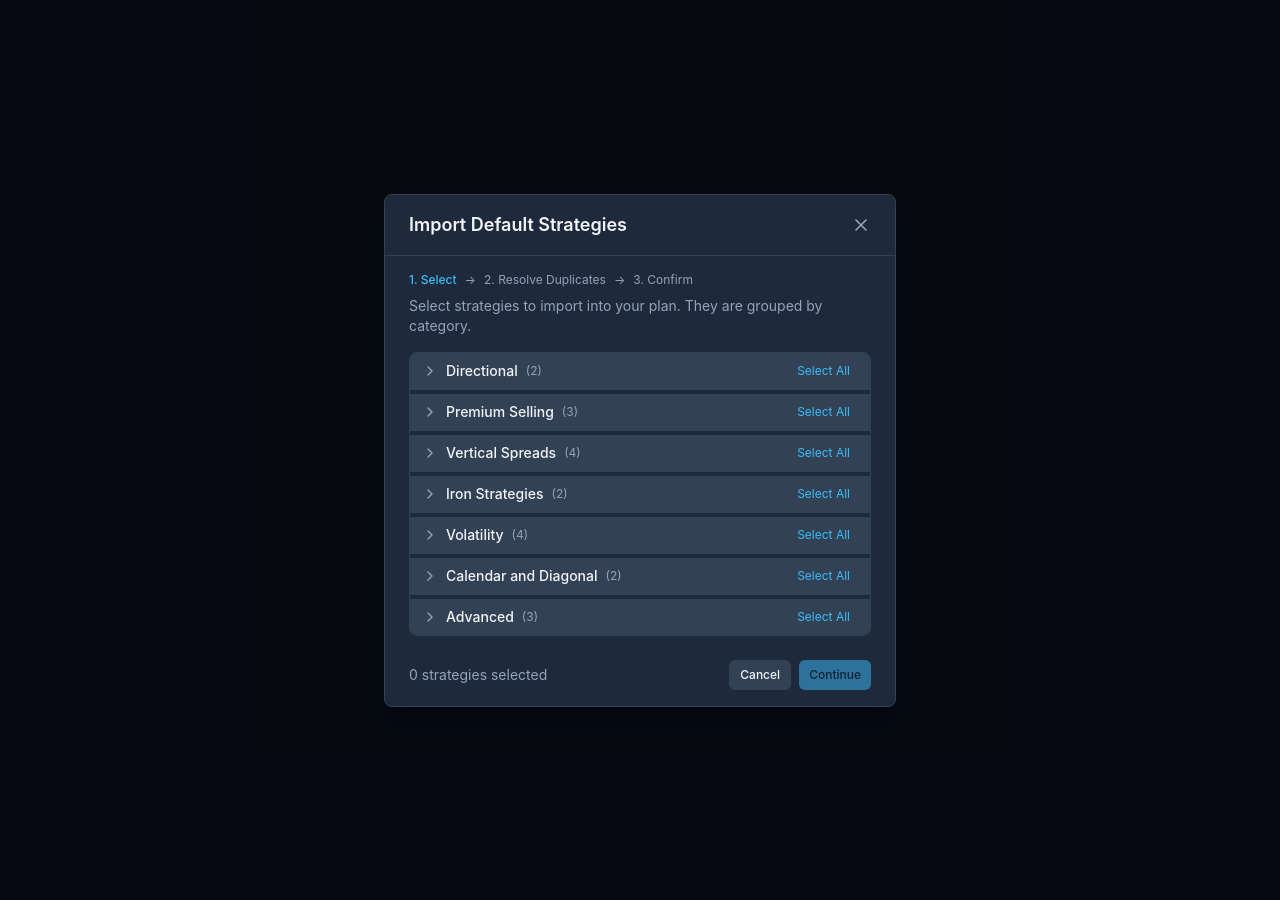
StrategyImporter › multi-select and Select All per category › allows selecting individual strategies
Click the button with aria-label "Directional category" at [482, 370], box [422,360,781,380]
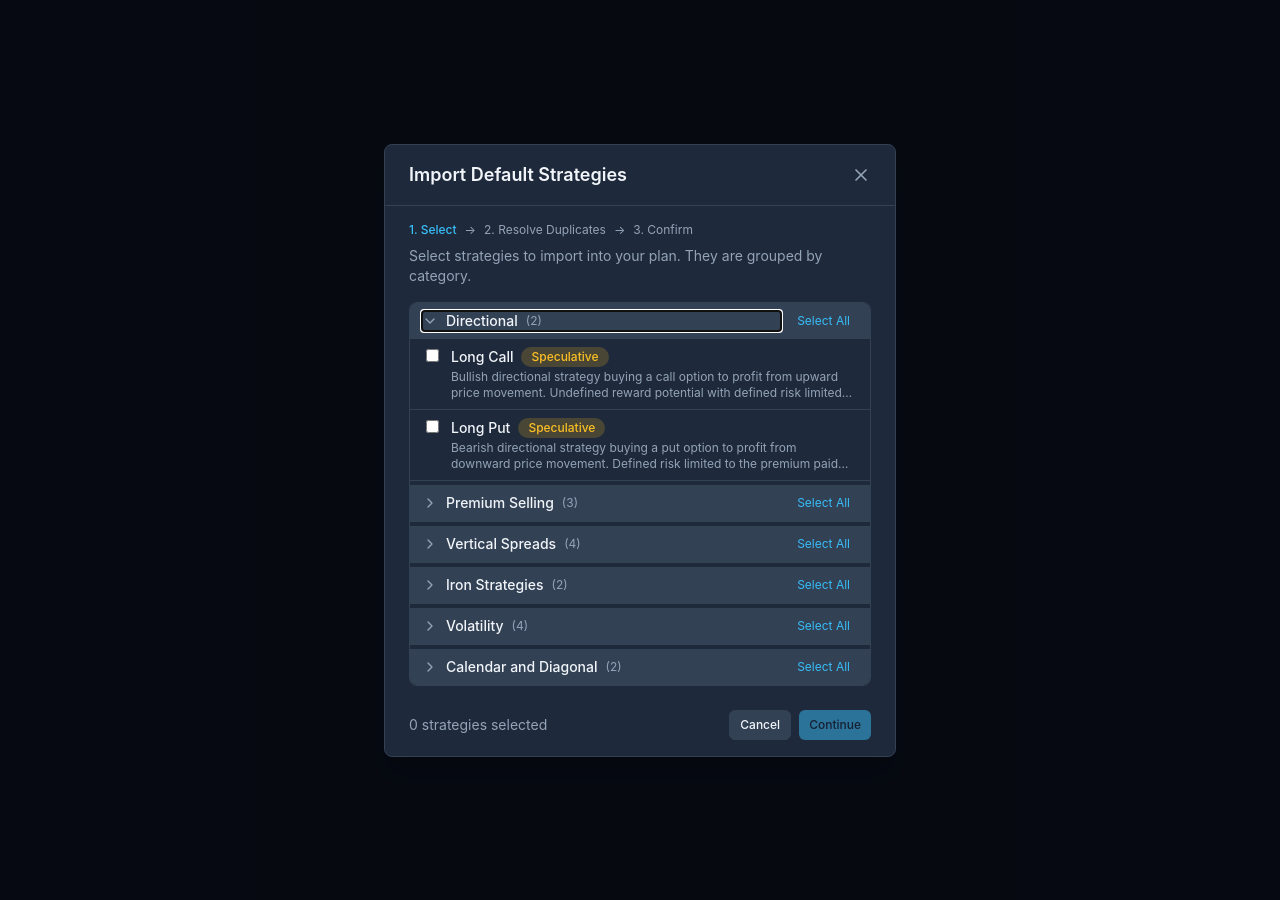
Click the checkbox named "Select Long Call" at [432, 355], box [426,348,439,362]
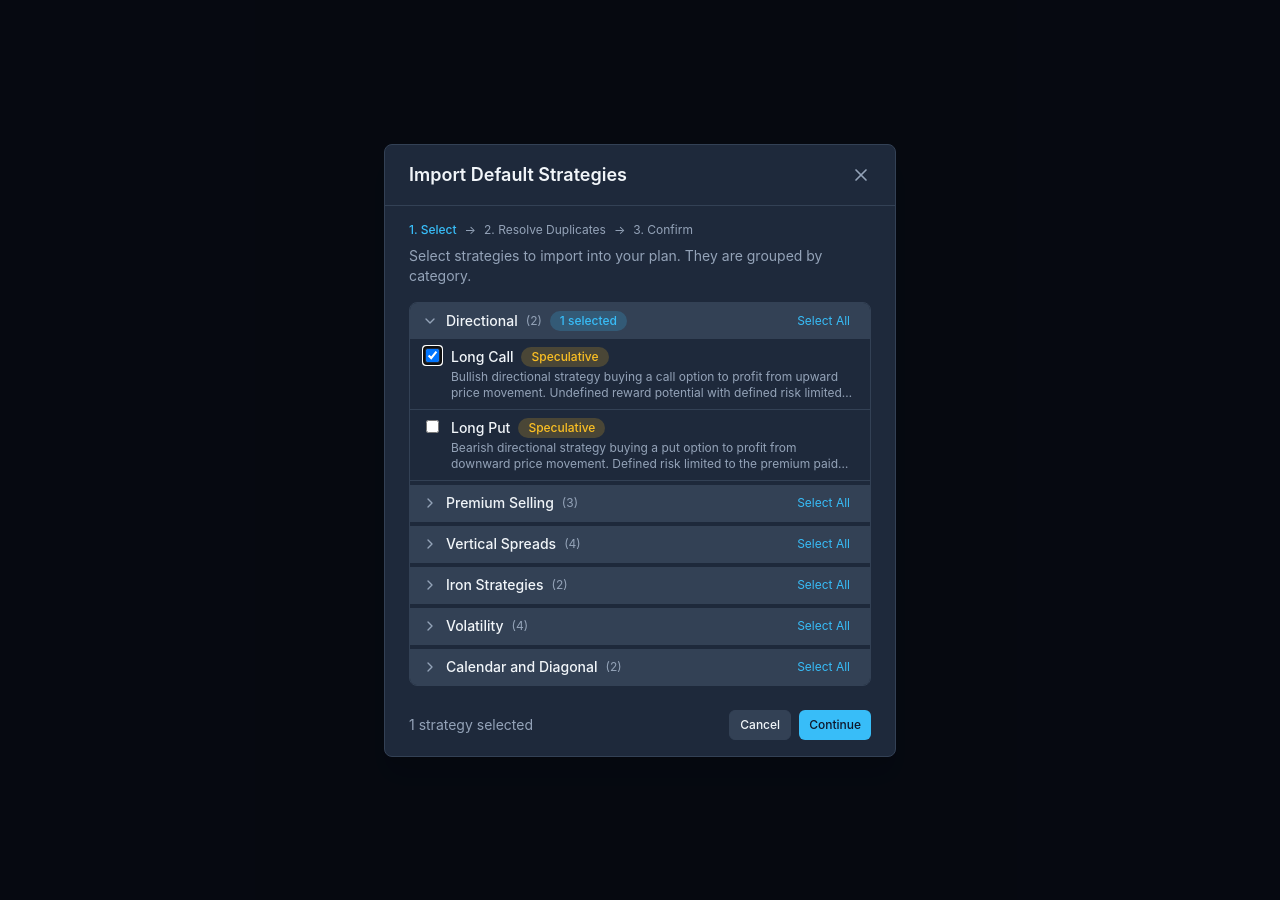
Now the text "1 strategy selected" is shown, box [409,714,533,734]
